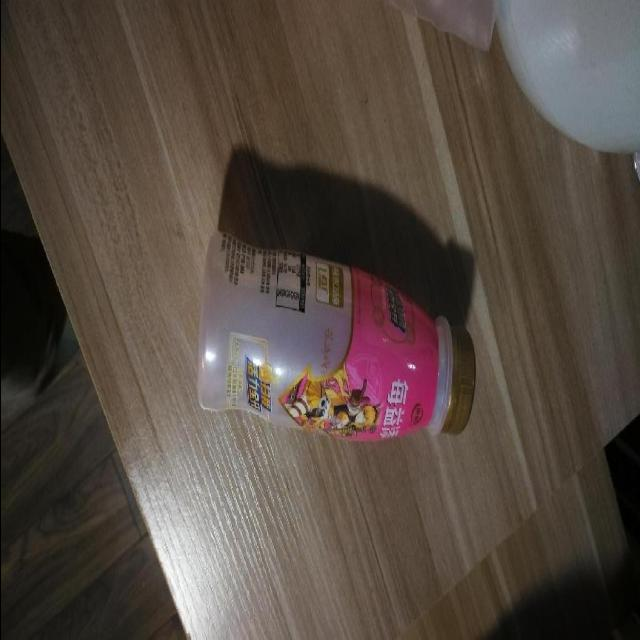-Recyclables - plastic bottle-: (193, 250, 476, 436)
